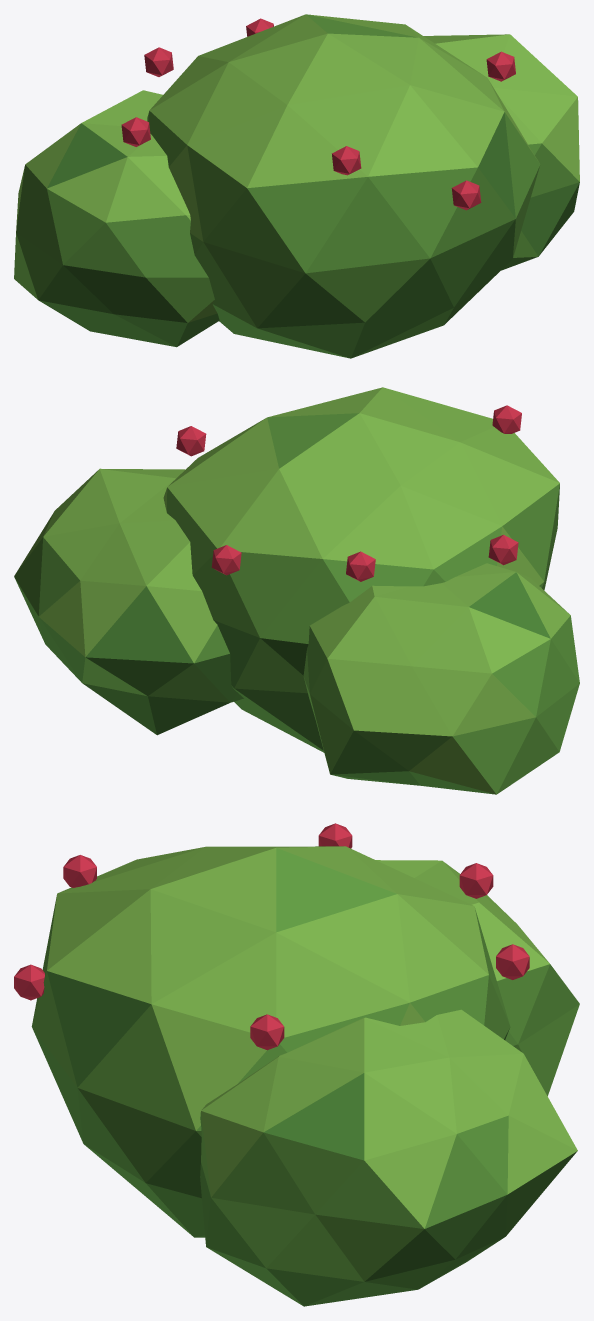
File: bush_berries.glb
The picture shows the model from 3 angles, top to bottom: view 1: azimuth 30°, elevation 25°; view 2: azimuth 150°, elevation 25°; view 3: azimuth 270°, elevation 25°; orthographic projection. The views are drawn at different scales.
Parts seen in each view (by area): view 1: bush_berries; view 2: bush_berries; view 3: bush_berries.
Part boxes in pixels (<box>): bush_berries: <box>14,14,579,358</box>; bush_berries: <box>14,387,579,794</box>; bush_berries: <box>14,823,579,1306</box>.
Bounding box in the file's own units: 1.63 × 0.9035 × 1.28.
Materials: 1 (1 with a texture image).
